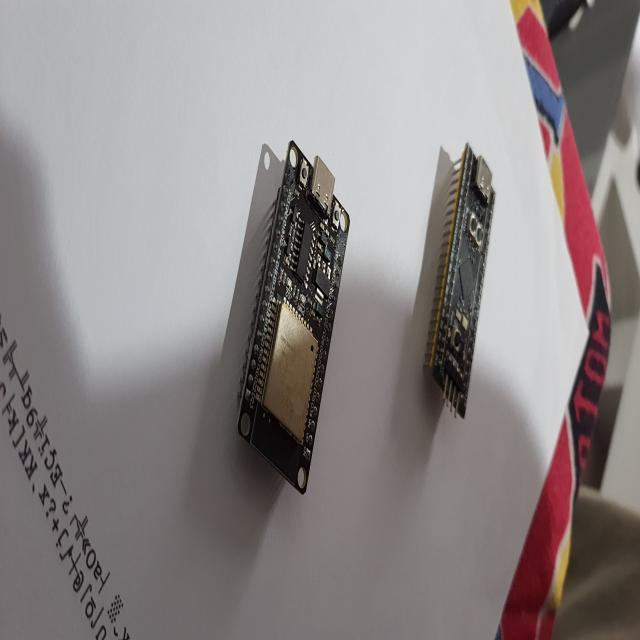ESP32: (239, 142, 350, 494)
STM32: (426, 145, 495, 418)
